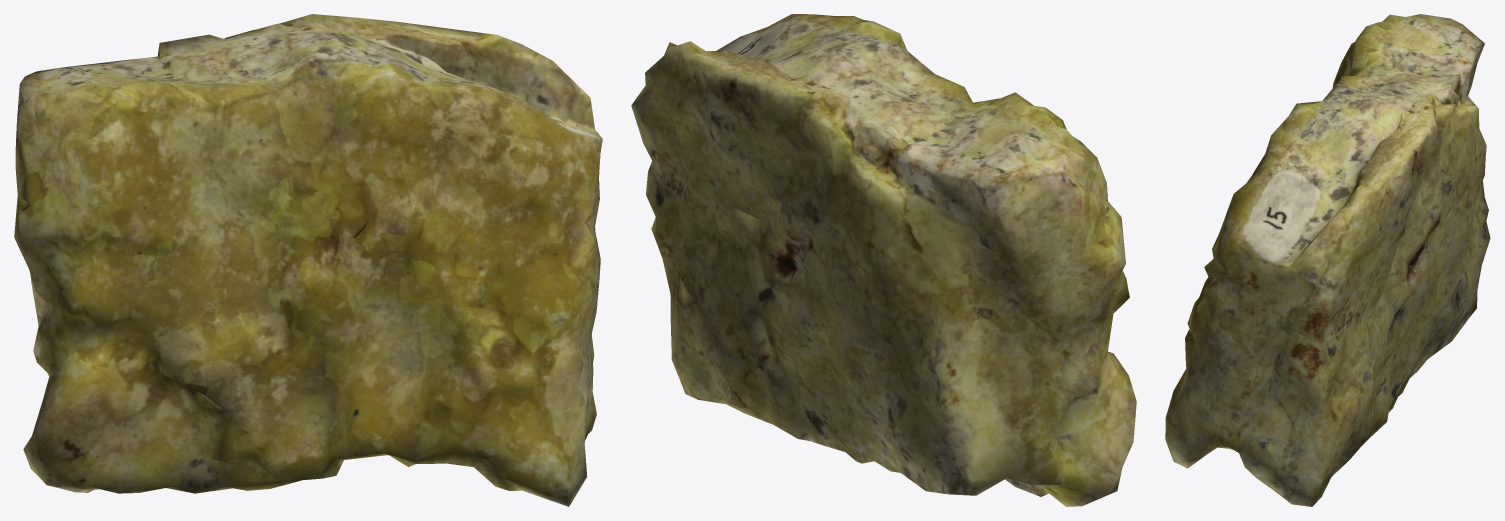
The model's file is rock-sulfur-cianciana.glb.
3 renders of one model, left to right at view 1: azimuth 30°, elevation 25°; view 2: azimuth 150°, elevation 25°; view 3: azimuth 270°, elevation 25°, orthographic. The views are drawn at different scales.
Visible parts, largest first — view 1: rock-sulfur-cianciana_LOD0; view 2: rock-sulfur-cianciana_LOD0; view 3: rock-sulfur-cianciana_LOD0.
Part boxes in pixels (left/top/right/bottom): rock-sulfur-cianciana_LOD0: left=14, top=14, right=602, bottom=506; rock-sulfur-cianciana_LOD0: left=631, top=14, right=1136, bottom=506; rock-sulfur-cianciana_LOD0: left=1165, top=14, right=1490, bottom=506.
Size of what is drawn, in the model's own units: 0.9017 by 0.689 by 0.6023.
Materials: 1 (1 with a texture image).
